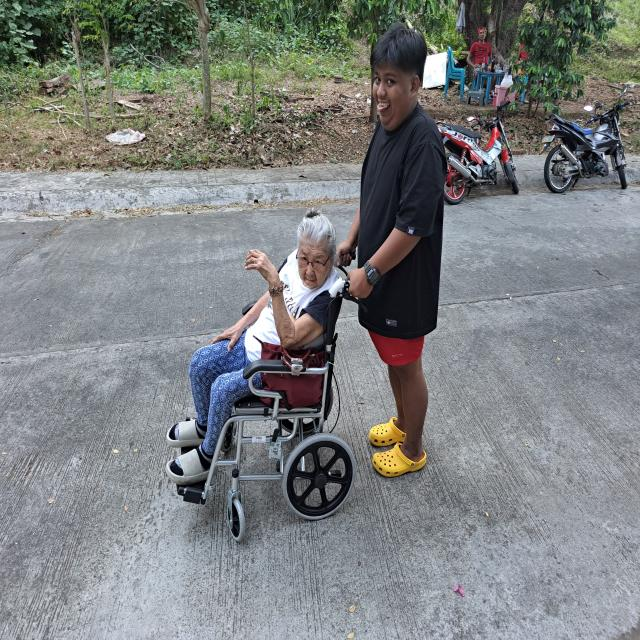wheelchairs: (212, 254, 364, 533)
